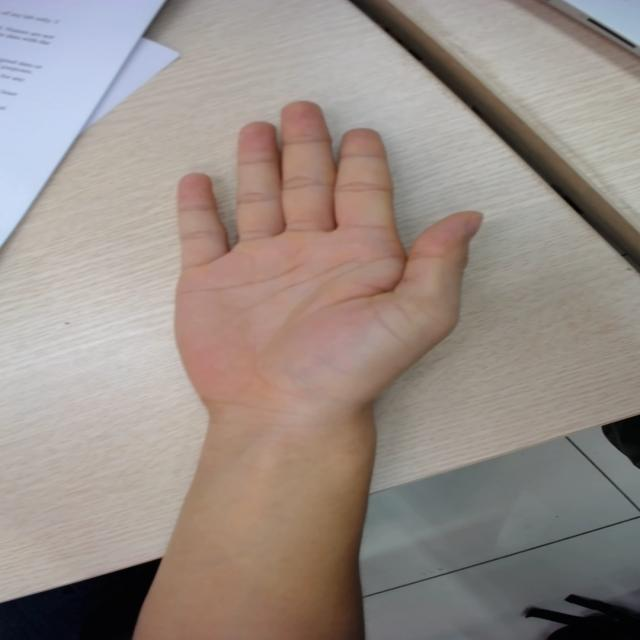hand: (174, 95, 465, 412)
